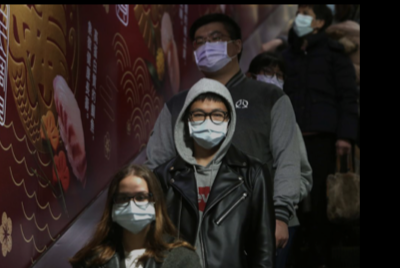with_mask: (192, 28, 238, 74), (111, 188, 155, 234), (186, 105, 229, 147), (253, 65, 285, 89), (294, 8, 318, 37)
